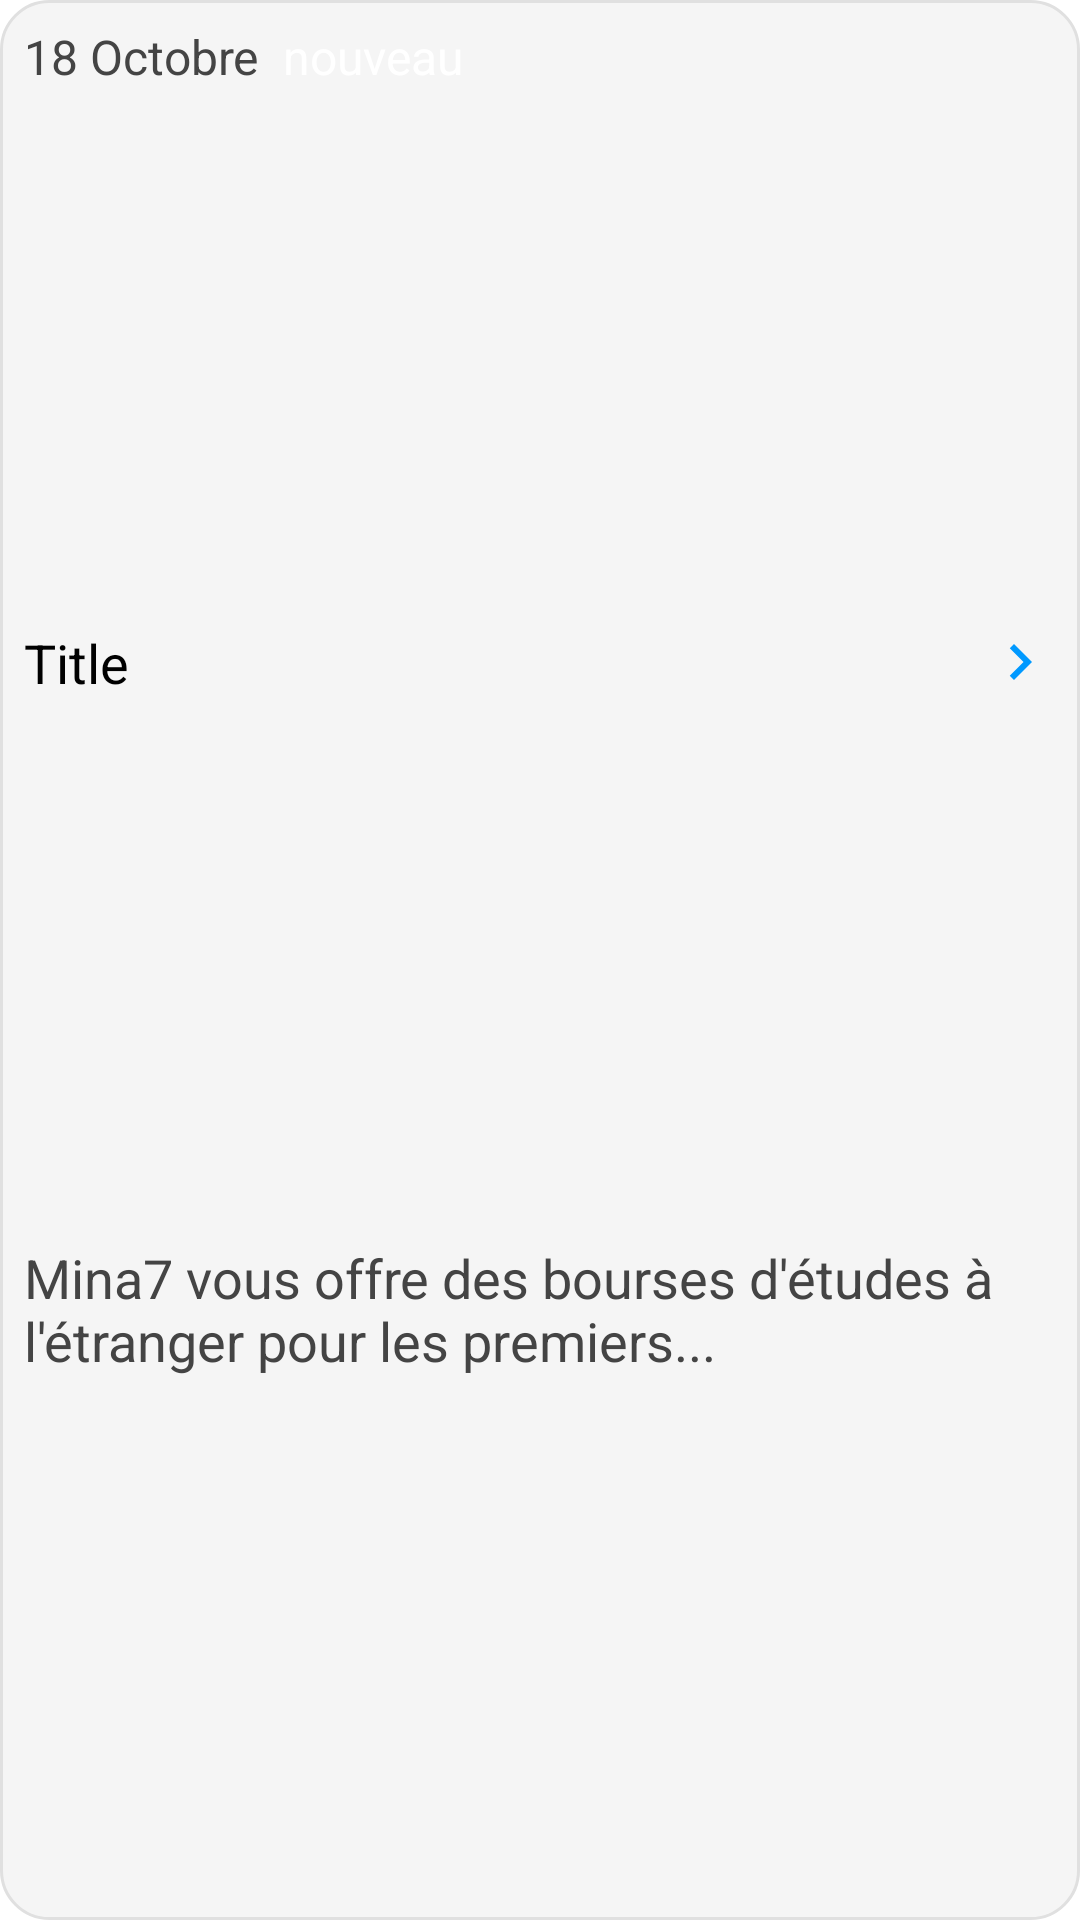

Point at icon controls on the screen. Image size 1080*1920, points as (x,y).
navigate next: (1021,662)
